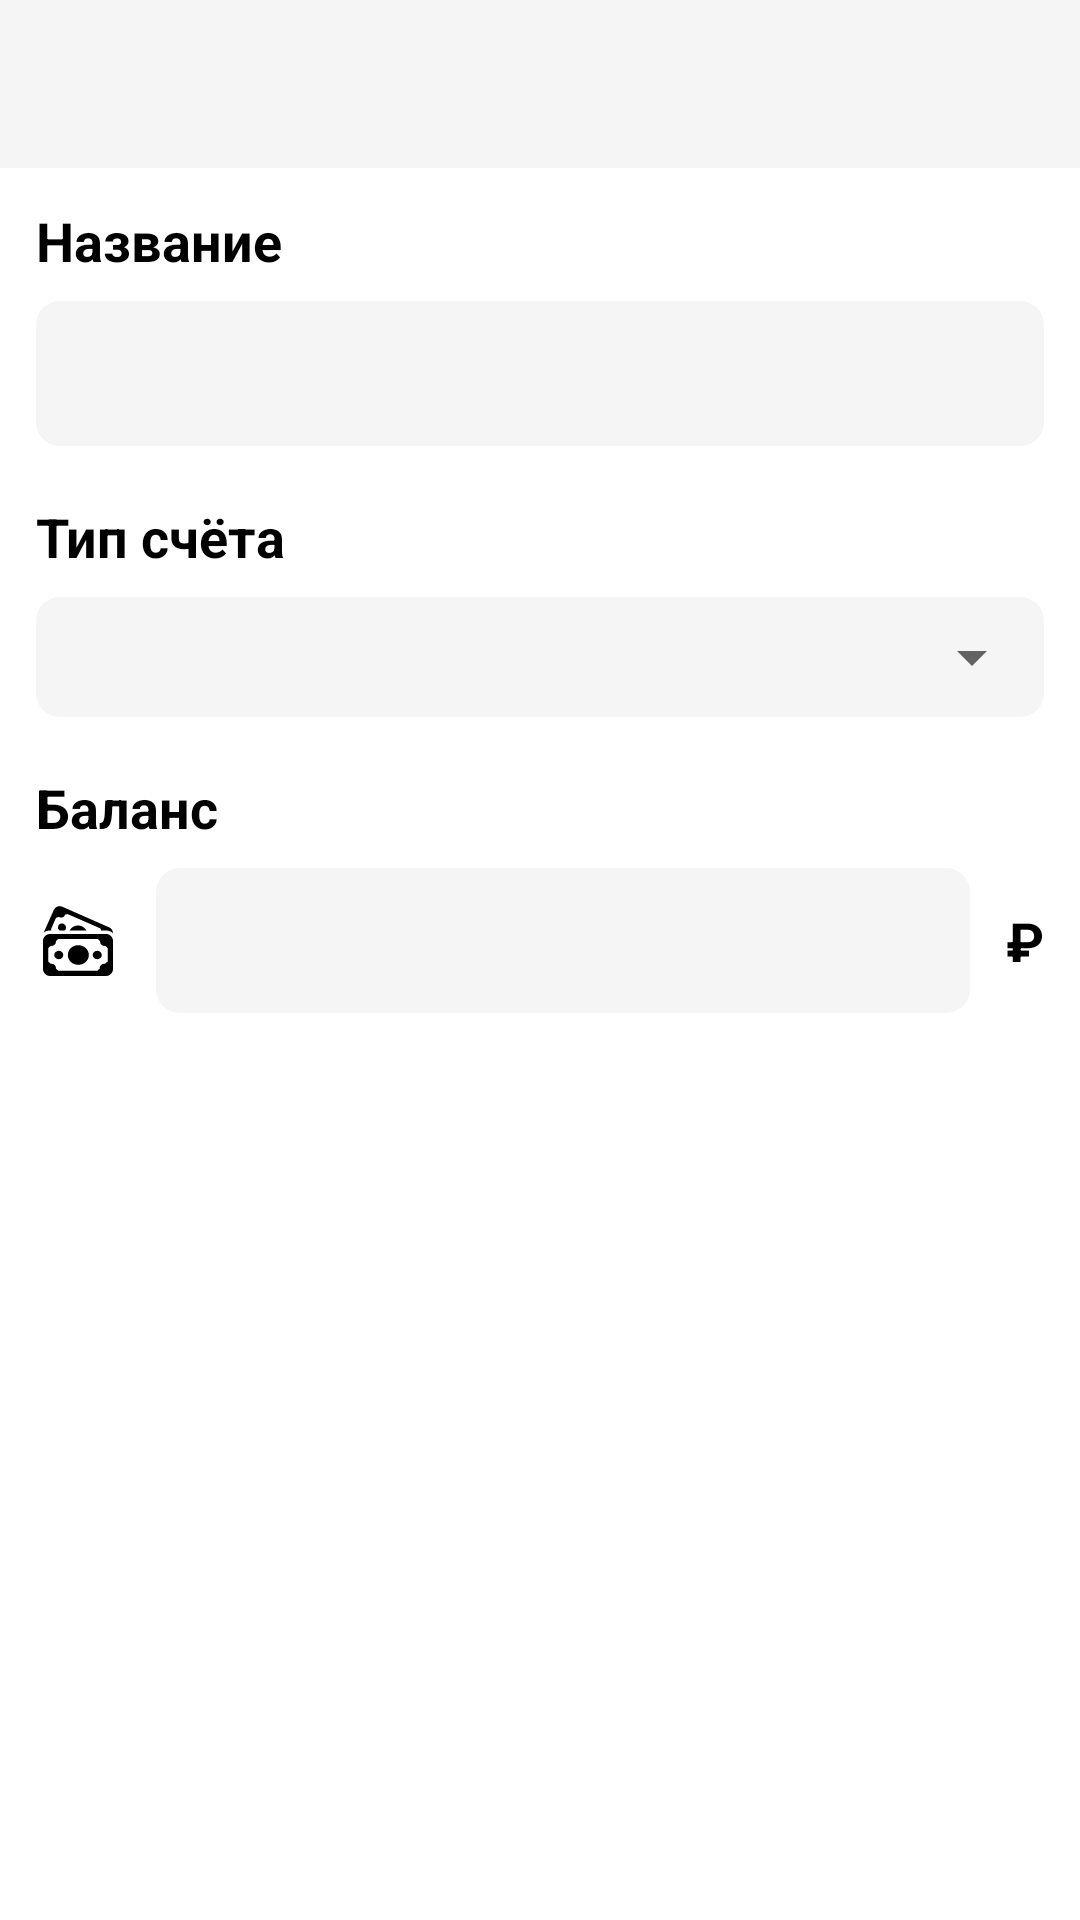

Where to tap for icons on this 1080×1920 app screen, as (x=x, y=y):
banknote: (x=78, y=941)
